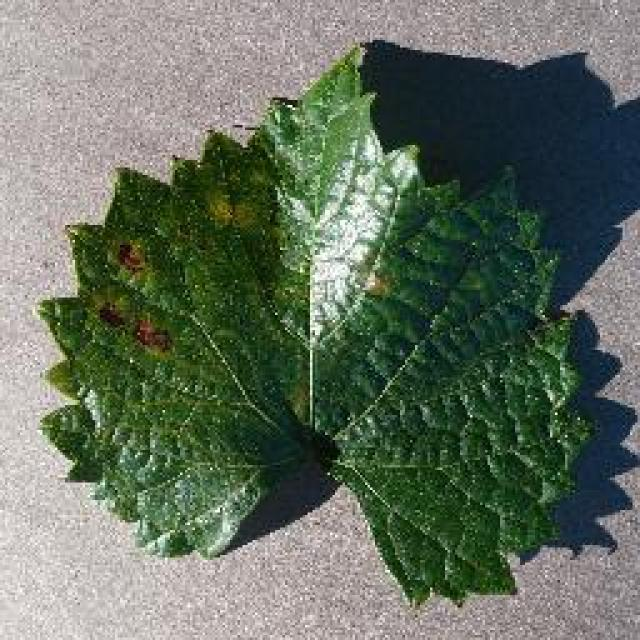Black_Measles: (18, 38, 601, 613)
